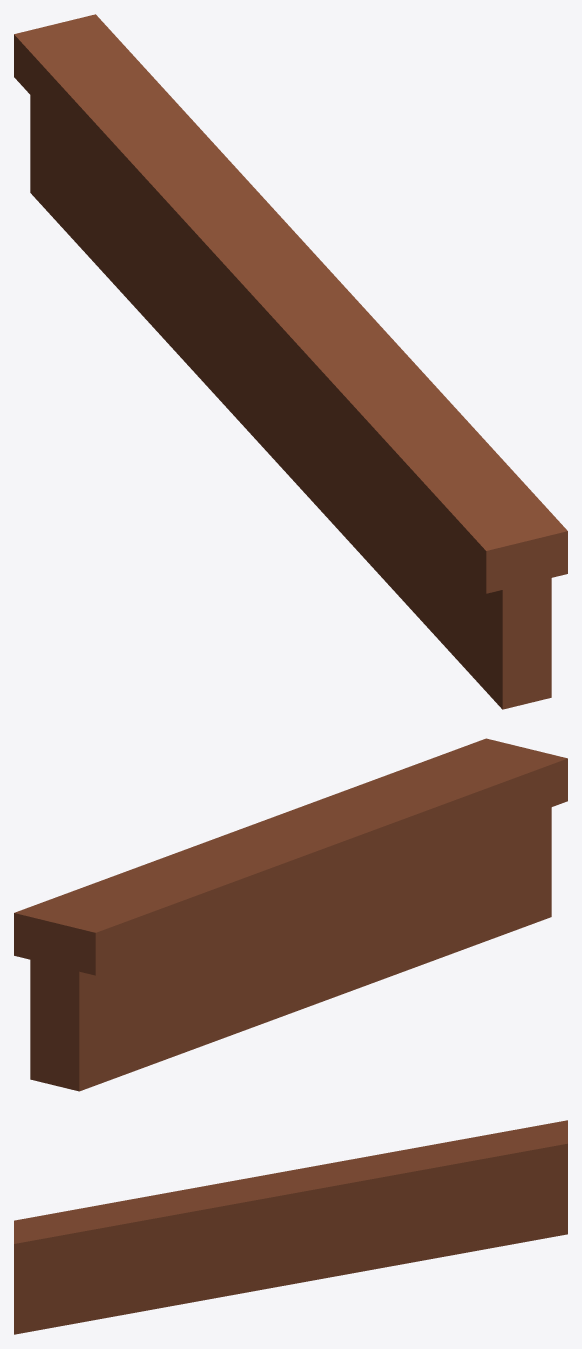
Rendered from wall_pedestrian_slope_1.glb.
The picture shows the model from 3 angles, top to bottom: view 1: azimuth 30°, elevation 25°; view 2: azimuth 150°, elevation 25°; view 3: azimuth 270°, elevation 25°; orthographic projection. The views are drawn at different scales.
Visible parts, largest first — view 1: base.020; view 2: base.020; view 3: base.020.
Boxes of the visible parts, x1,y1,x2,y2 form: base.020: (14, 14, 567, 709); base.020: (14, 738, 567, 1091); base.020: (14, 1120, 567, 1334).
Bounding box in the file's own units: 1 × 3.9 × 10.
1 material, 1 textured.
